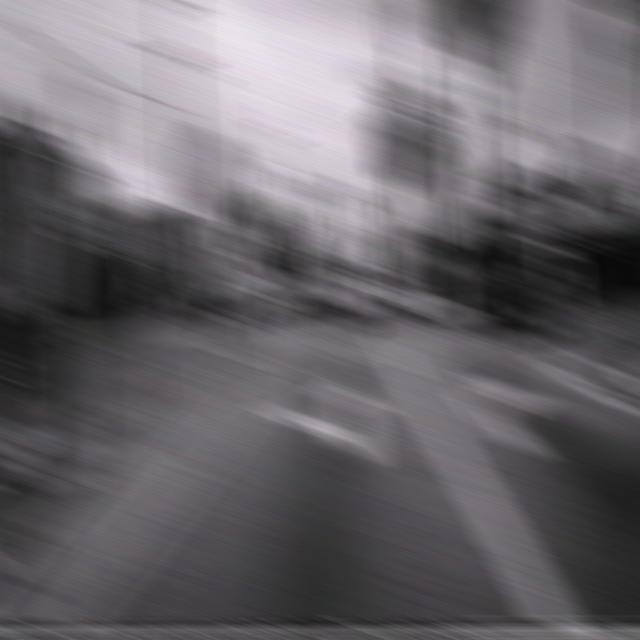stop: (180, 126, 246, 225), (576, 136, 632, 218)
